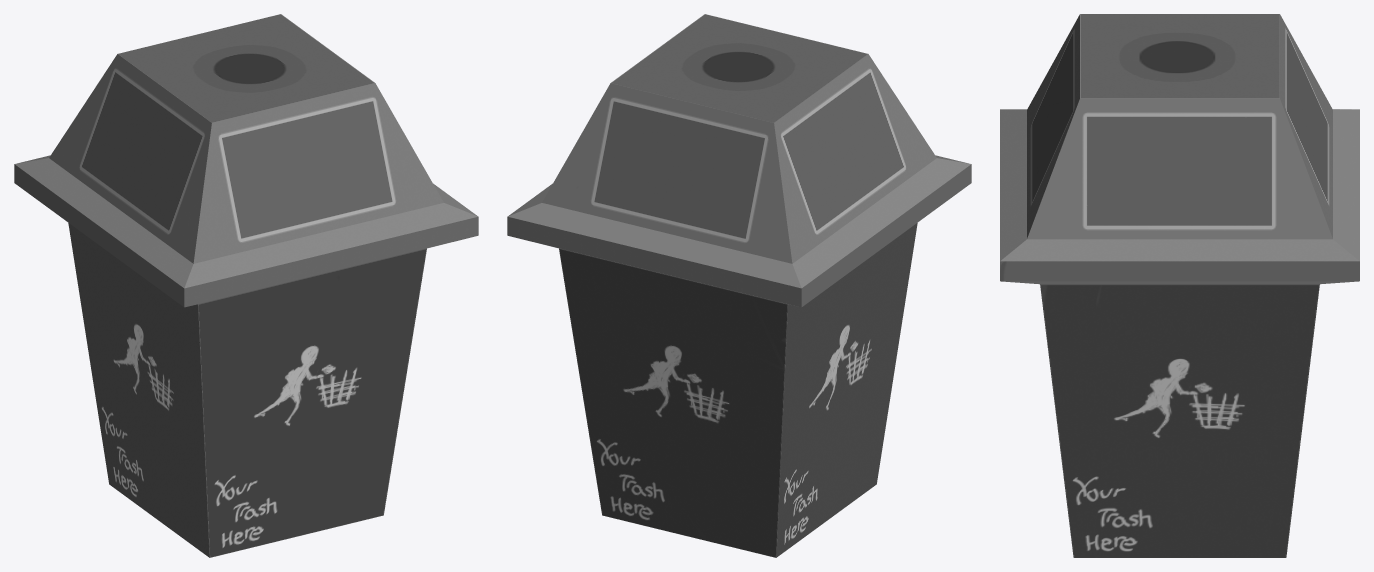
The model's file is bin.fbx.
3 views of the same model, side by side, from view 1: azimuth 30°, elevation 25°; view 2: azimuth 150°, elevation 25°; view 3: azimuth 270°, elevation 25° (orthographic). The views are drawn at different scales.
Visible parts, largest first — view 1: Mesh; view 2: Mesh; view 3: Mesh.
Boxes of the visible parts, bbox=[...] form: Mesh: bbox=[14, 14, 478, 557]; Mesh: bbox=[507, 14, 971, 557]; Mesh: bbox=[1000, 14, 1359, 557].
Size of the model in its own units: 5.97 by 8.36 by 5.97.
Materials: 1 (1 with a texture image).
